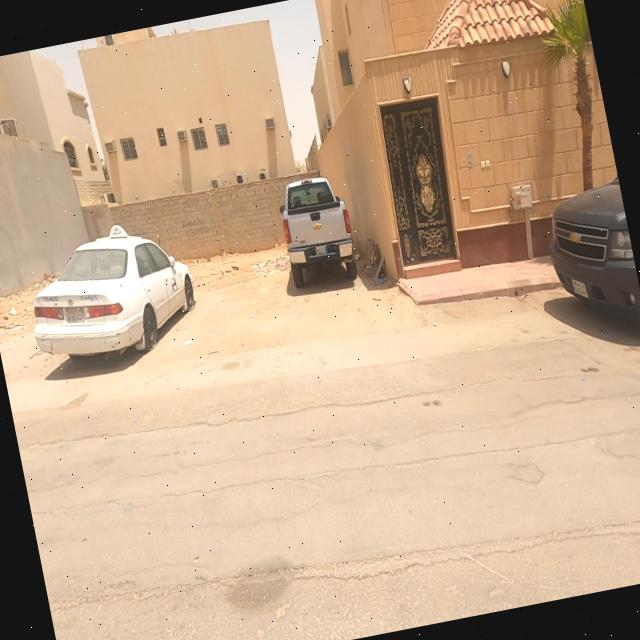Graffiti: (183, 214, 216, 242)
